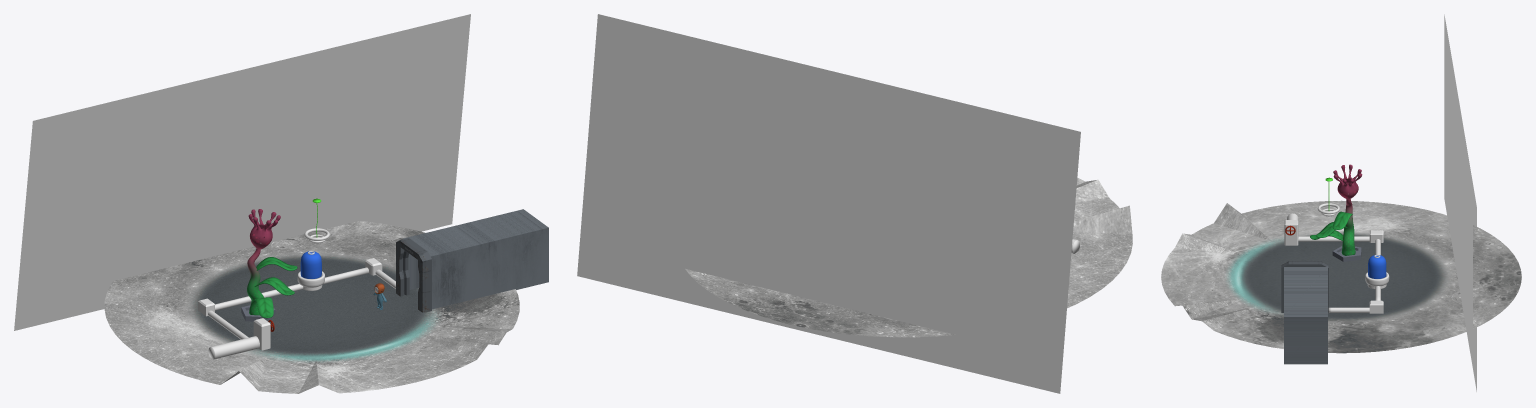
File: INVERNADERO_29-11-20.dae
The picture shows the model from 3 angles, left to right: view 1: azimuth 30°, elevation 25°; view 2: azimuth 150°, elevation 25°; view 3: azimuth 270°, elevation 25°; orthographic projection. The views are drawn at different scales.
Parts seen in each view (by area): view 1: Plane, Cylinder.003, 2C_pared_Down, Plane.002, puerta, Cylinder.007, Cylinder.002, Cylinder.004, Cube; view 2: Plane, Cylinder.003; view 3: Cylinder.003, Plane, 2C_pared_Down, Plane.002, puerta, Cylinder.004, Cube.
Boxes of the visible parts, left/top/right/bottom form: Plane: left=14, top=14, right=470, bottom=330; Cylinder.003: left=104, top=221, right=519, bottom=393; 2C_pared_Down: left=403, top=209, right=548, bottom=309; Plane.002: left=247, top=209, right=297, bottom=318; puerta: left=396, top=238, right=431, bottom=312; Cylinder.007: left=215, top=267, right=368, bottom=310; Cylinder.002: left=208, top=336, right=259, bottom=359; Cylinder.004: left=300, top=251, right=321, bottom=278; Cube: left=253, top=318, right=270, bottom=350; Plane: left=577, top=14, right=1080, bottom=393; Cylinder.003: left=685, top=177, right=1132, bottom=337; Cylinder.003: left=1161, top=200, right=1521, bottom=353; Plane: left=1444, top=14, right=1476, bottom=391; 2C_pared_Down: left=1284, top=266, right=1327, bottom=364; Plane.002: left=1310, top=164, right=1362, bottom=255; puerta: left=1281, top=261, right=1328, bottom=312; Cylinder.004: left=1368, top=255, right=1386, bottom=278; Cube: left=1284, top=220, right=1298, bottom=245.
Bounding box in the file's own units: 27.87 × 22.89 × 13.61.
12 materials, 5 textured.
